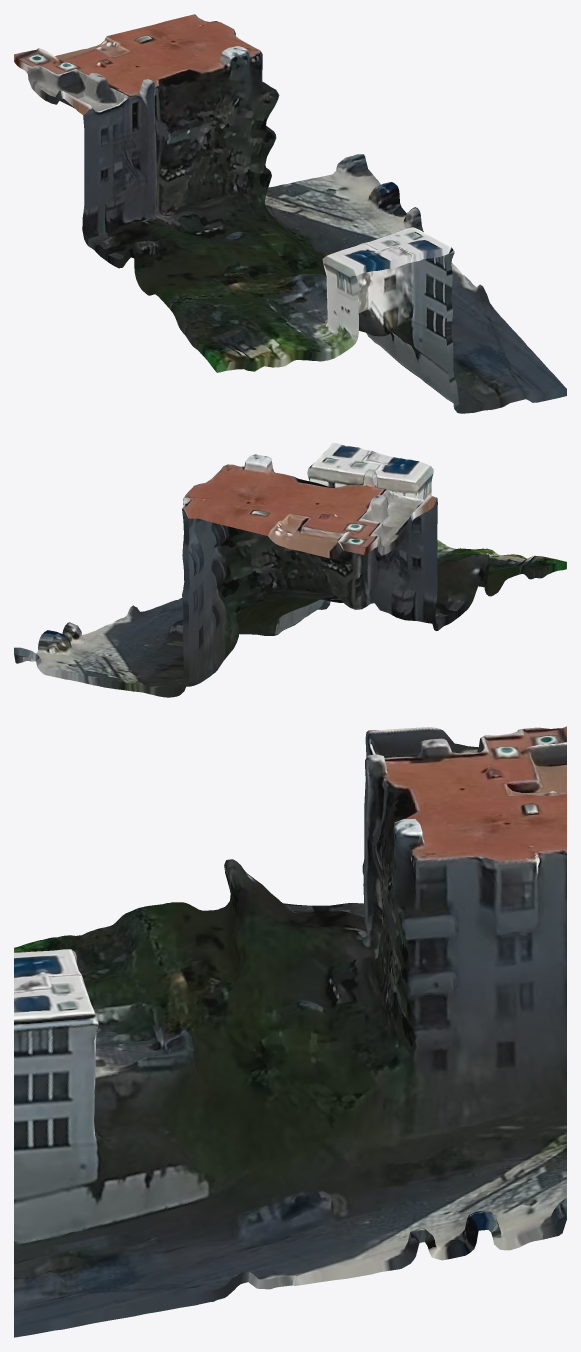
File: z20-167715-405193-h0-yup-uvflip-v3-world.glb
3 renders of one model, top to bottom at view 1: azimuth 30°, elevation 25°; view 2: azimuth 150°, elevation 25°; view 3: azimuth 270°, elevation 25°, orthographic. The views are drawn at different scales.
Size of the model in its own units: 30.16 by 23.76 by 30.32.
Materials: 1 (1 with a texture image).
